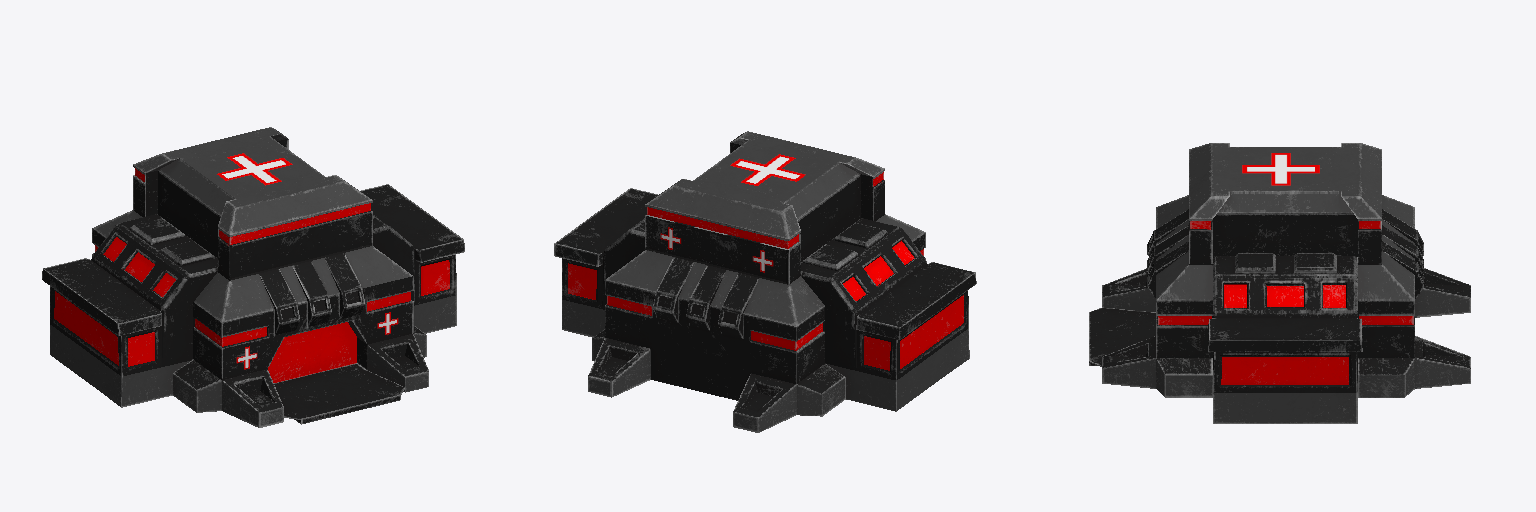
The picture shows the model from 3 angles: view 1: azimuth 30°, elevation 25°; view 2: azimuth 150°, elevation 25°; view 3: azimuth 270°, elevation 25°; orthographic projection.
Visible parts, largest first — view 1: kaonov_hospital; view 2: kaonov_hospital; view 3: kaonov_hospital.
Part boxes in pixels (bbox=[...]): kaonov_hospital: bbox=[42, 127, 464, 427]; kaonov_hospital: bbox=[554, 131, 976, 432]; kaonov_hospital: bbox=[1089, 143, 1470, 423].
Bounding box in the file's own units: 312 × 149 × 299.
Materials: 1 (1 with a texture image).